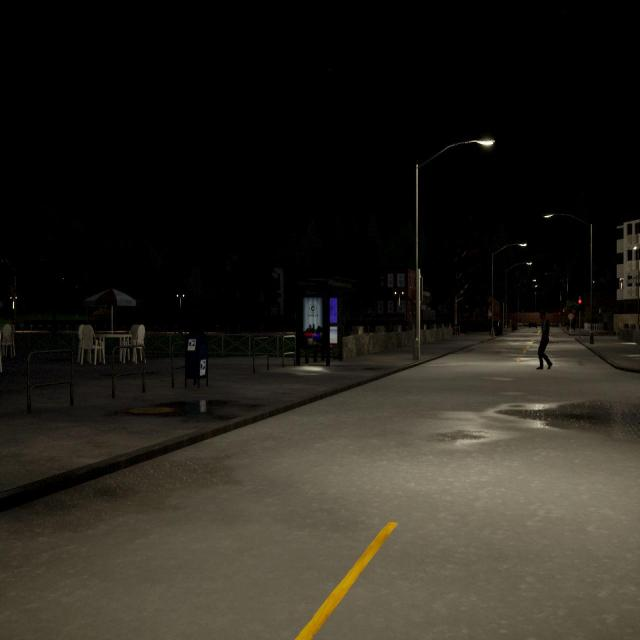Pedestrian: (536, 311, 552, 369)
Traffic_Signs: (568, 313, 574, 320)
traffic_light: (420, 277, 423, 301), (578, 299, 582, 309), (562, 309, 565, 316), (559, 312, 560, 317)
